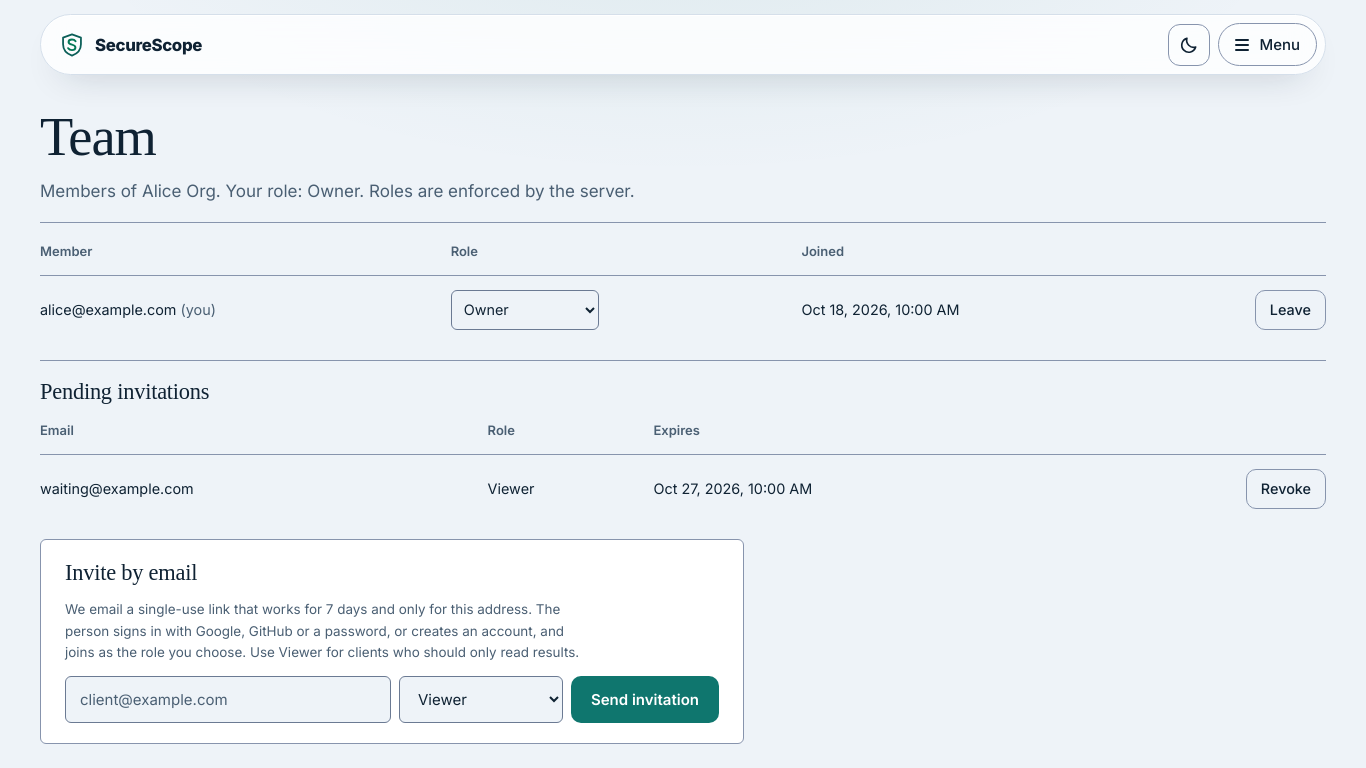
Test case: inviting from the Team page › sends an invitation with the chosen role and confirms it
The width and height of the screenshot is (1366, 768).
Type "new@example.com" into the field named "Email to invite" at (228, 699), box x1=65 y1=676 x2=391 y2=723
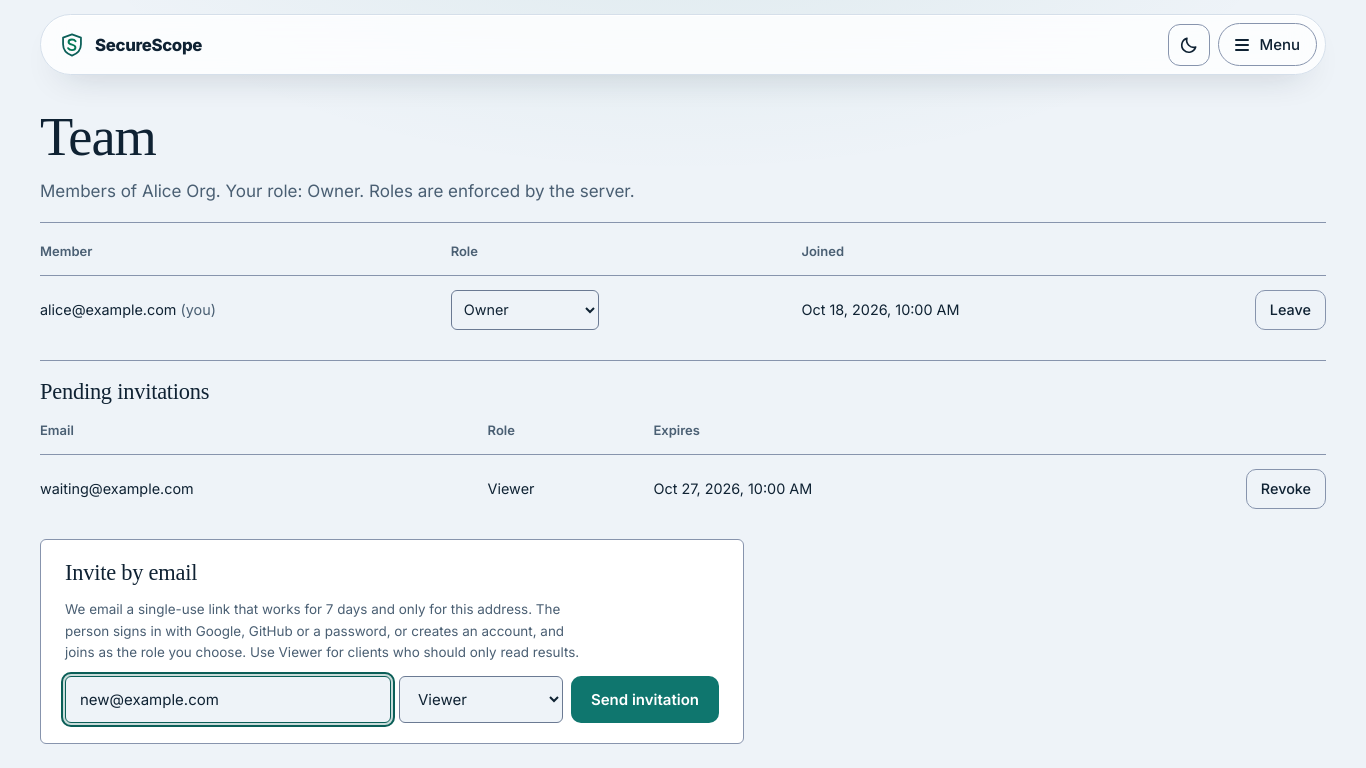
Click the button "Send invitation" at (645, 699), box x1=571 y1=676 x2=719 y2=723
(page scrolled)
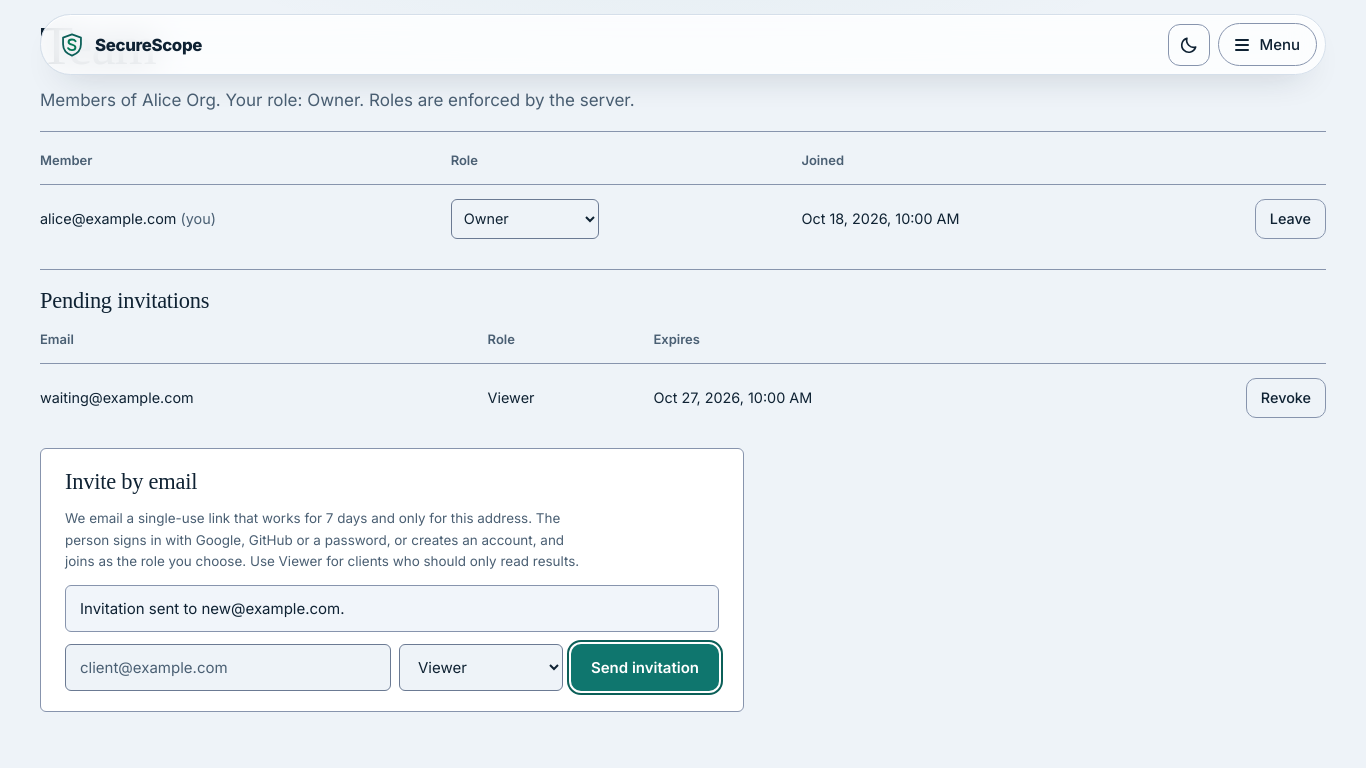
Result: the text "Invitation sent to new@example.com." is shown at x1=65 y1=585 x2=719 y2=632
Result: the field named "Email to invite" is empty at x1=65 y1=644 x2=391 y2=691
